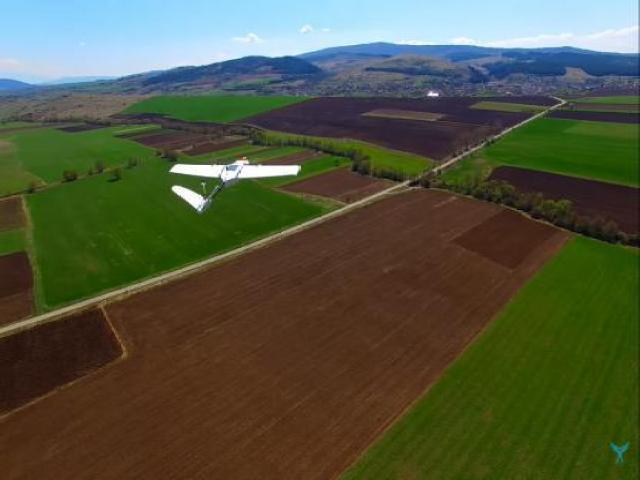uav: (164, 148, 305, 222)
